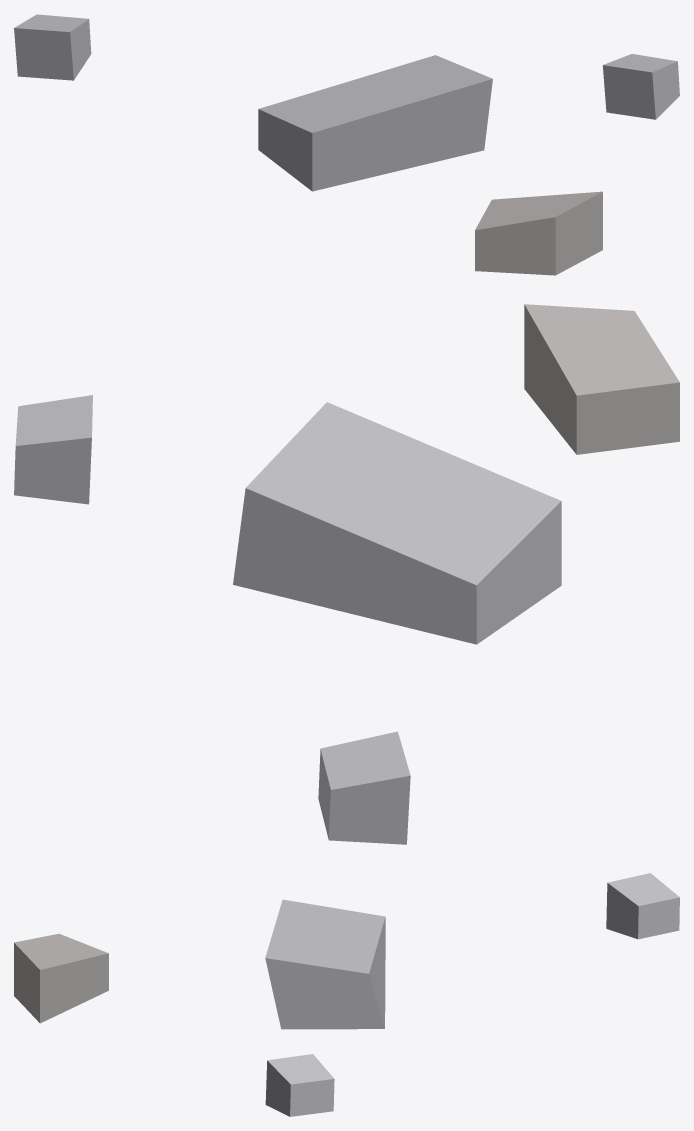
The model's file is Rock_Blocks_s_03.fbx.
3 views of the same model, one above another, from view 1: azimuth 30°, elevation 25°; view 2: azimuth 150°, elevation 25°; view 3: azimuth 270°, elevation 25° (orthographic). The views are drawn at different scales.
Visible parts, largest first — view 1: Rock_Blocks_s_03; view 2: Rock_Blocks_s_03; view 3: Rock_Blocks_s_03.
Boxes of the visible parts, box(x1,y1,x2,y2) form: Rock_Blocks_s_03: box(14, 14, 679, 275); Rock_Blocks_s_03: box(14, 304, 679, 844); Rock_Blocks_s_03: box(14, 873, 679, 1116).
Size of the model in its own units: 49.19 by 8.7 by 66.17.
